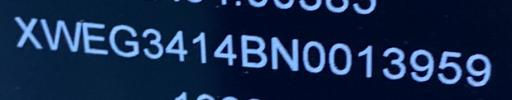letter: (40, 16, 82, 54), (108, 22, 142, 58), (268, 34, 300, 72), (12, 15, 44, 50), (464, 50, 492, 87), (380, 44, 408, 79), (81, 21, 109, 55), (240, 33, 268, 67), (408, 47, 436, 81), (327, 40, 353, 76), (436, 49, 462, 85), (302, 39, 326, 73), (140, 27, 164, 59), (164, 29, 188, 61), (212, 33, 236, 65), (356, 42, 374, 78), (191, 29, 209, 63)
